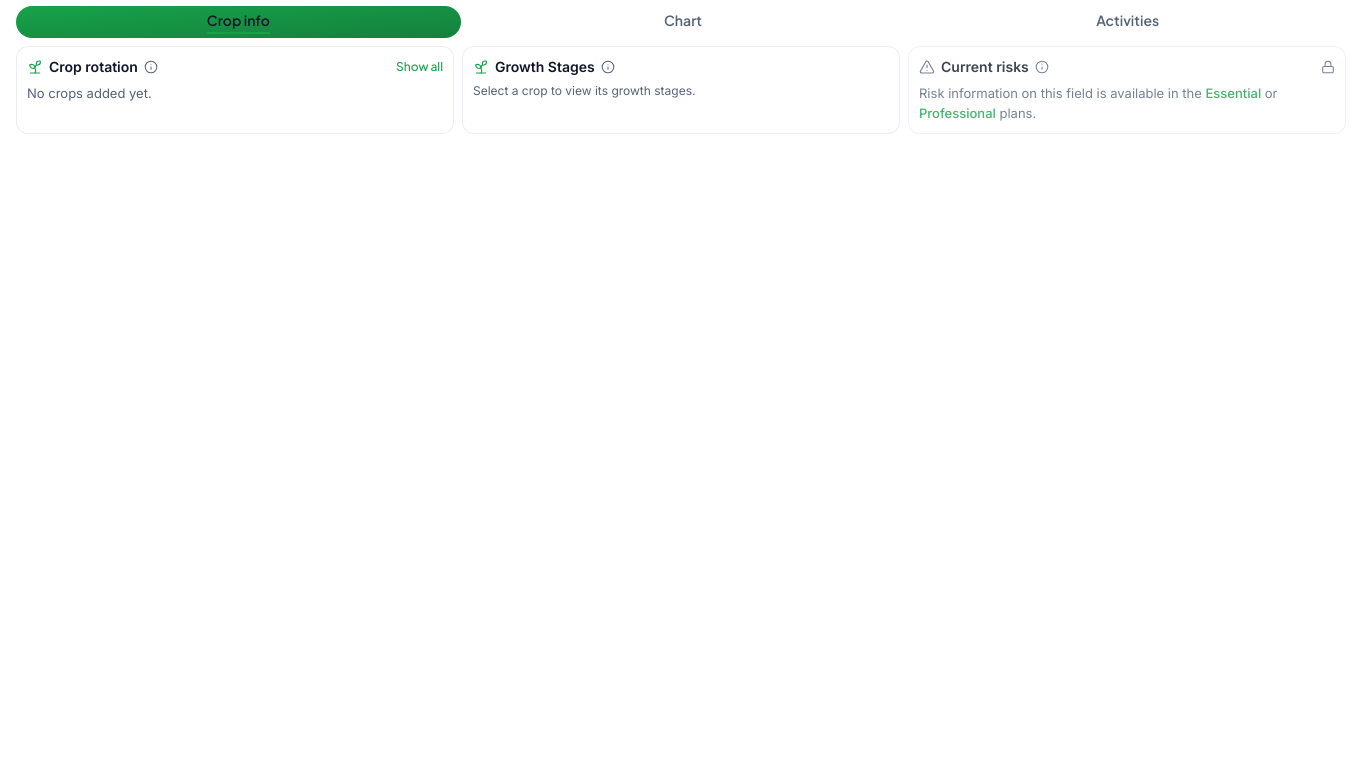
Test case: IndexPanel tabbed analytics (Phase F) › uses response-level mask provenance and masked pixel count for statistics
Press the mouse on the tab with test id "index-panel-tab-chart" at {"x": 683, "y": 22}, box x1=461 y1=6 x2=905 y2=38
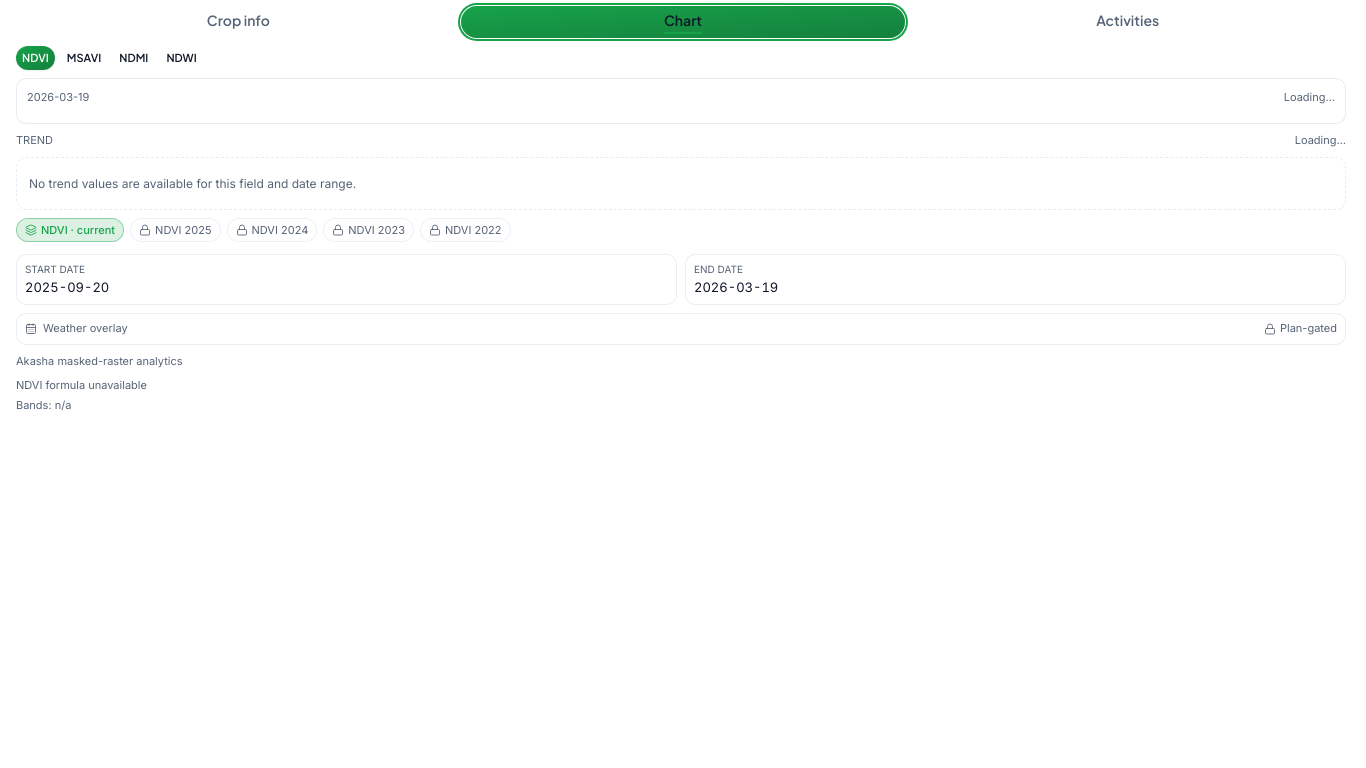
Click the tab with test id "index-panel-tab-chart". click: {"x": 683, "y": 22}
box: x1=461 y1=6 x2=905 y2=38
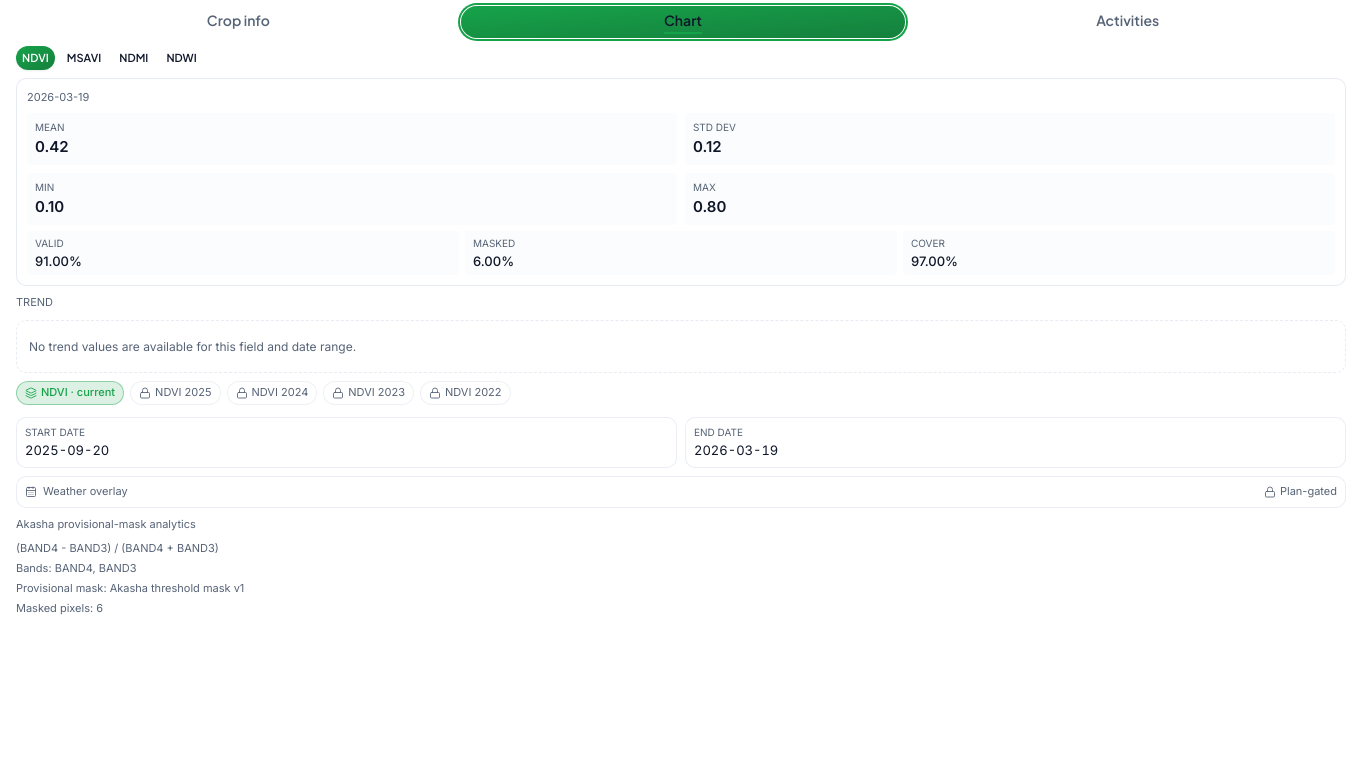
Expected: the text "0.42" is shown, x1=35 y1=137 x2=69 y2=156
Expected: the text "Akasha provisional-mask analytics" is shown, x1=16 y1=517 x2=196 y2=531
Expected: the text with test id "analytics-masked-pixels" shows "6", x1=96 y1=601 x2=103 y2=615
